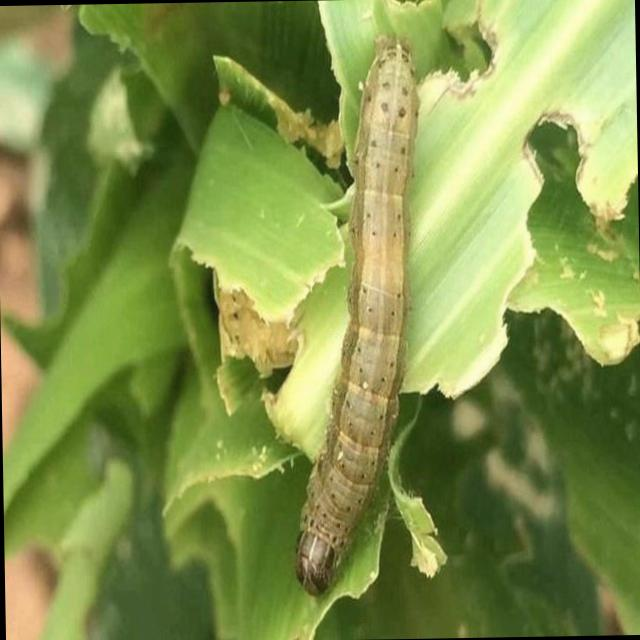pest: (291, 30, 429, 588)
